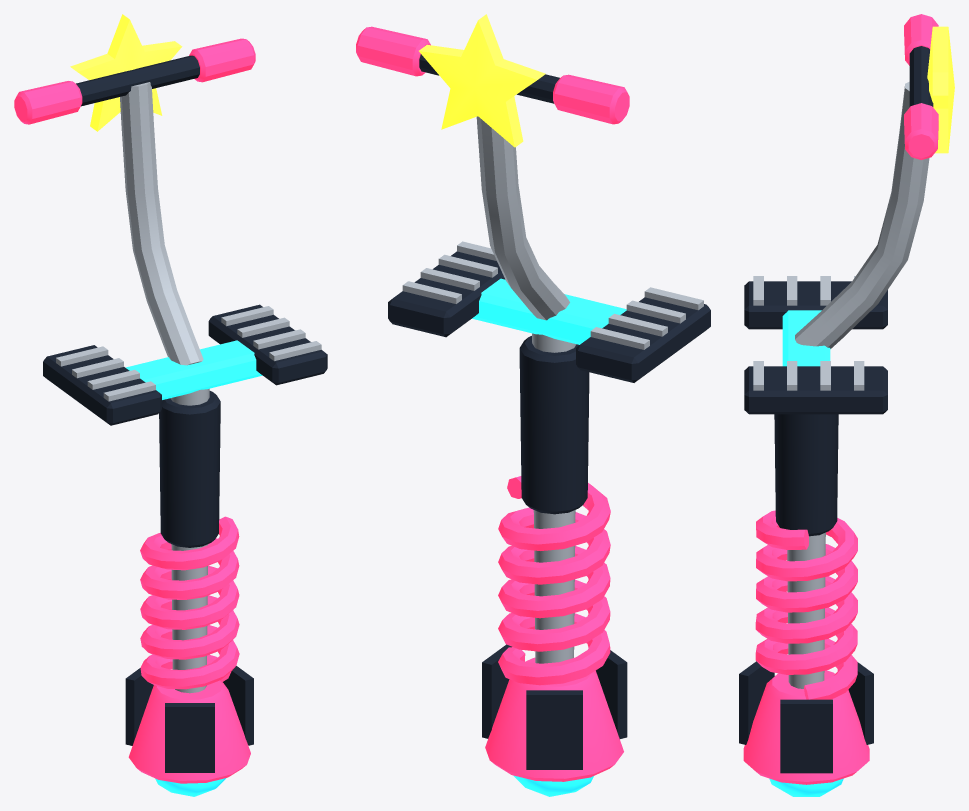
The model's file is pogo.glb.
The picture shows the model from 3 angles, left to right: view 1: azimuth 30°, elevation 25°; view 2: azimuth 150°, elevation 25°; view 3: azimuth 270°, elevation 25°; orthographic projection. The views are drawn at different scales.
Visible parts, largest first — view 1: Pogo_Cohete; view 2: Pogo_Cohete; view 3: Pogo_Cohete.
Part boxes in pixels (x1,y1,x2,y2): Pogo_Cohete: [14, 14, 327, 796]; Pogo_Cohete: [356, 14, 710, 796]; Pogo_Cohete: [739, 14, 954, 796].
Size of the model in its own units: 0.58 by 1.77 by 0.4509.
